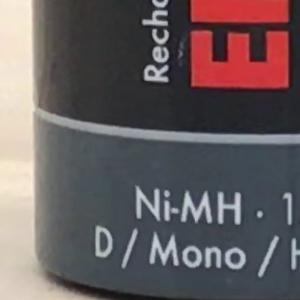keyword: (127, 182, 250, 230)
